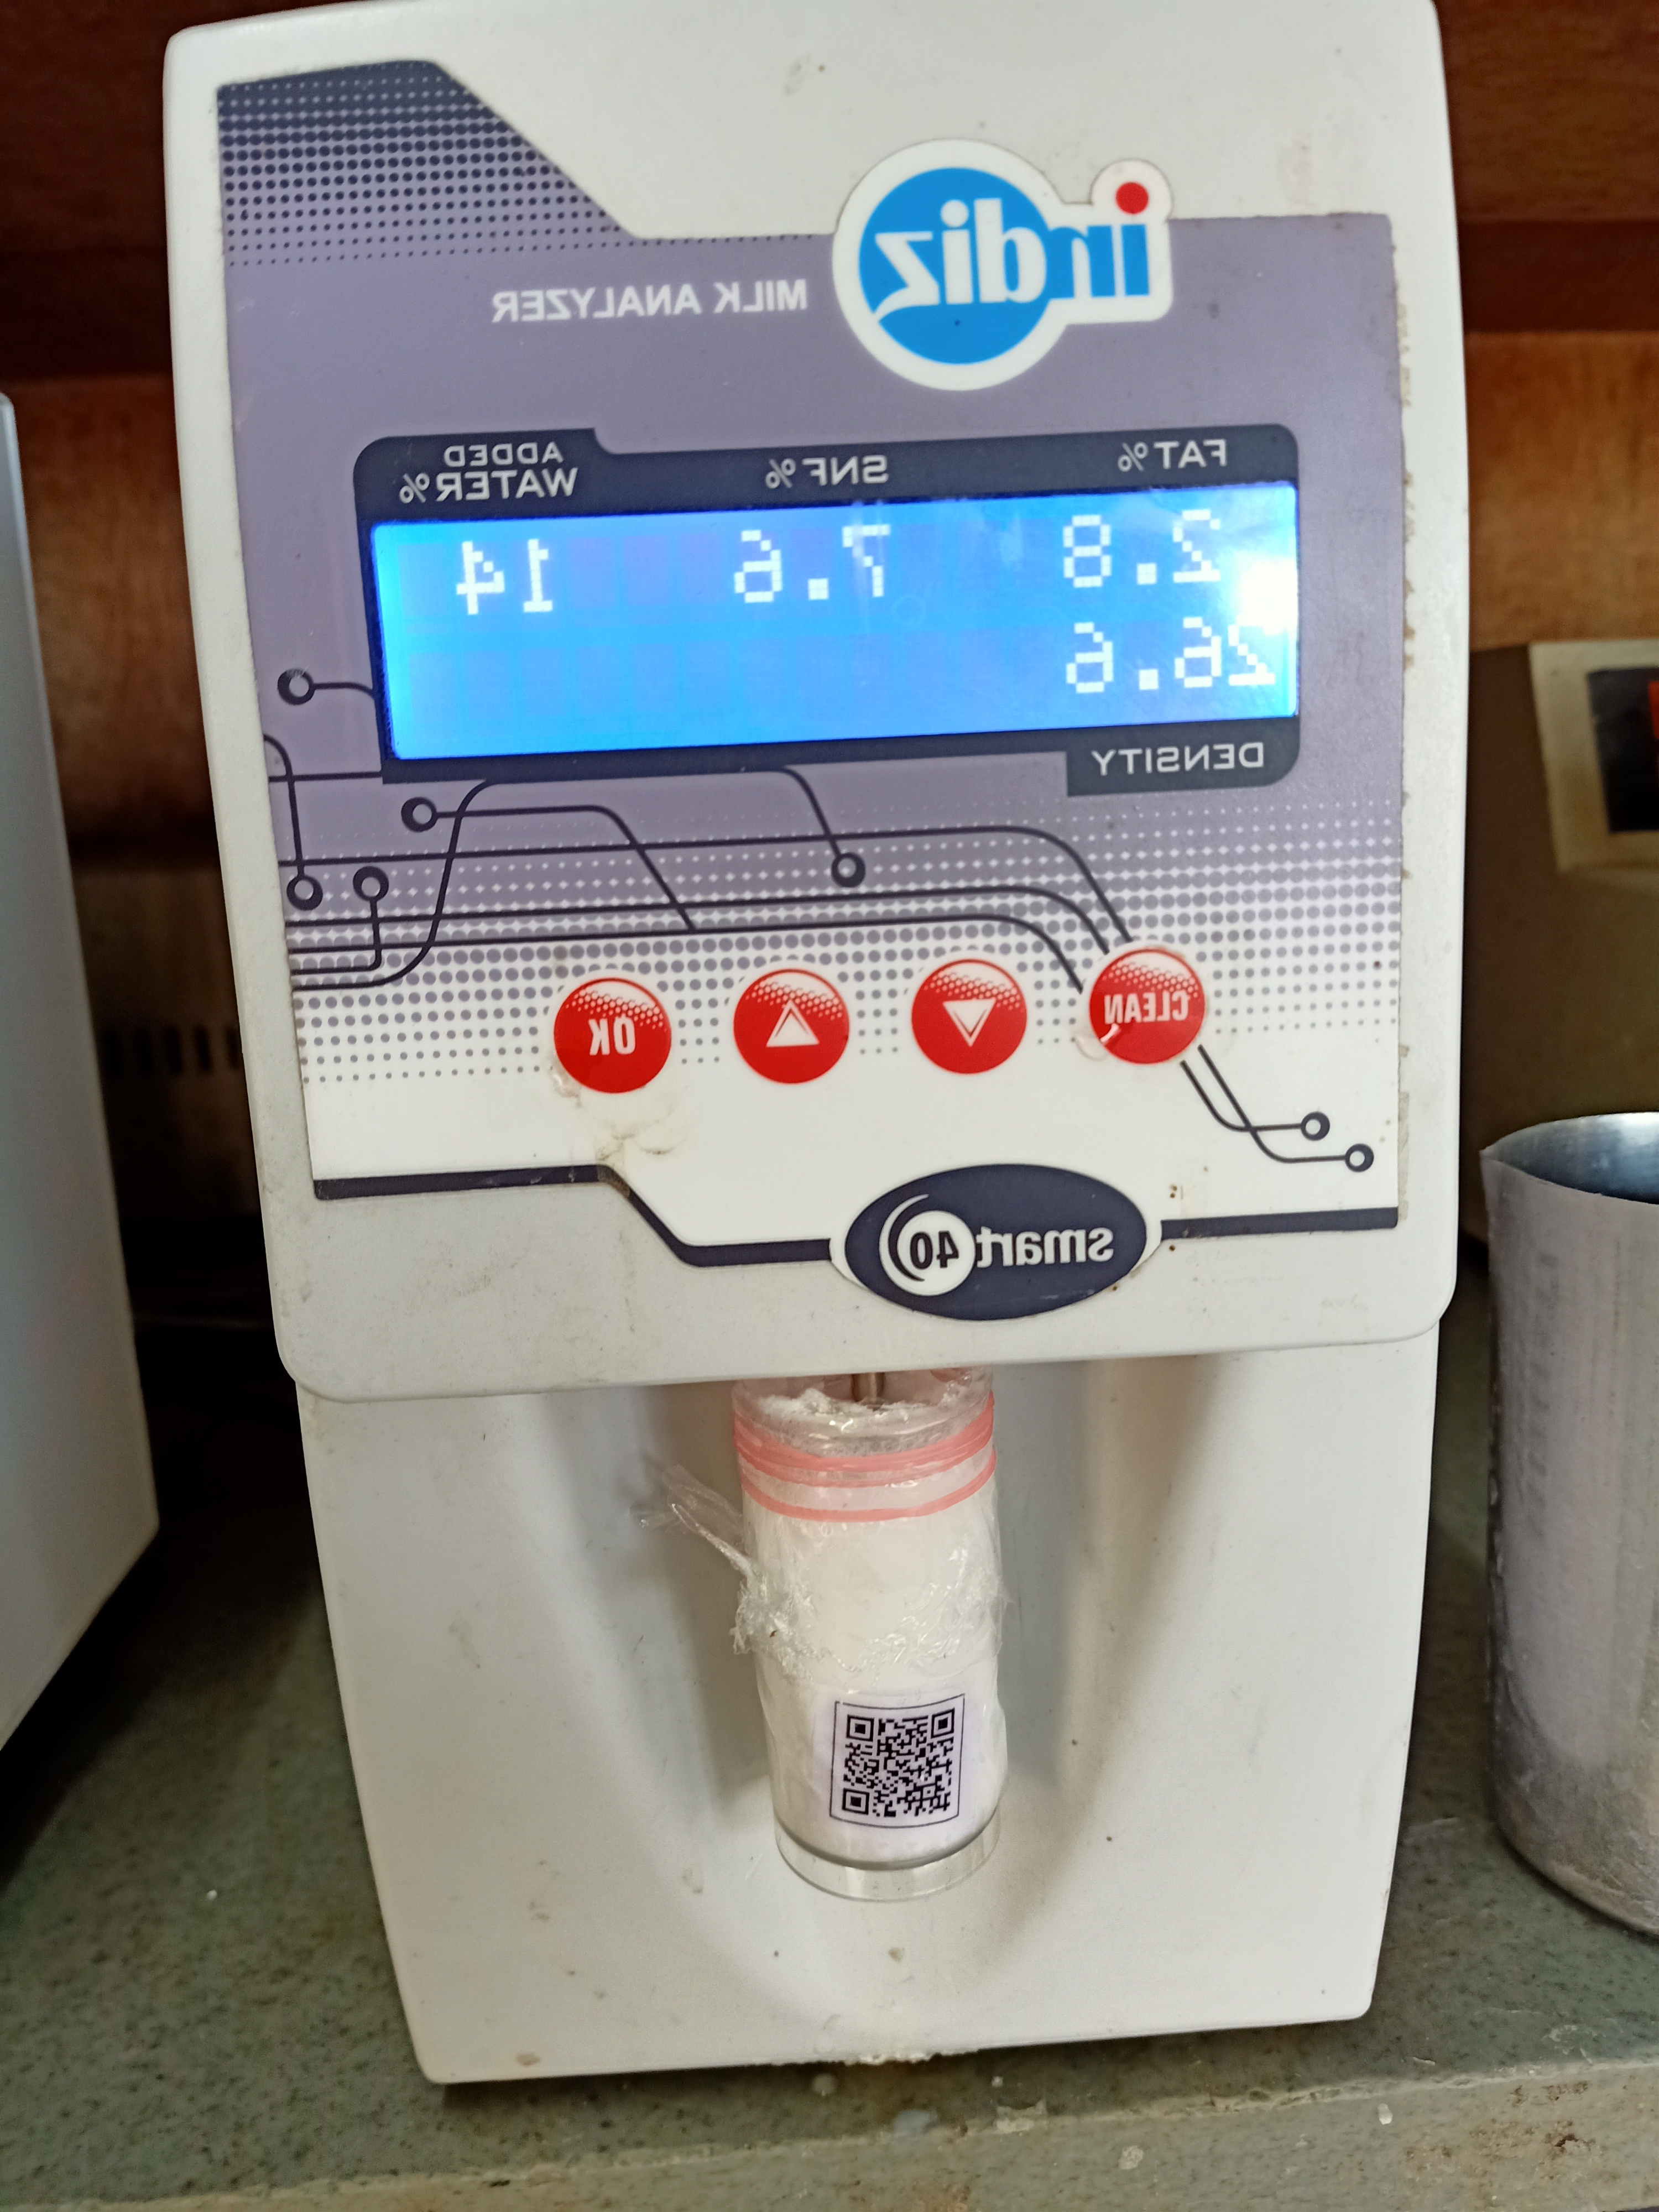lcd: (368, 488, 1312, 752)
